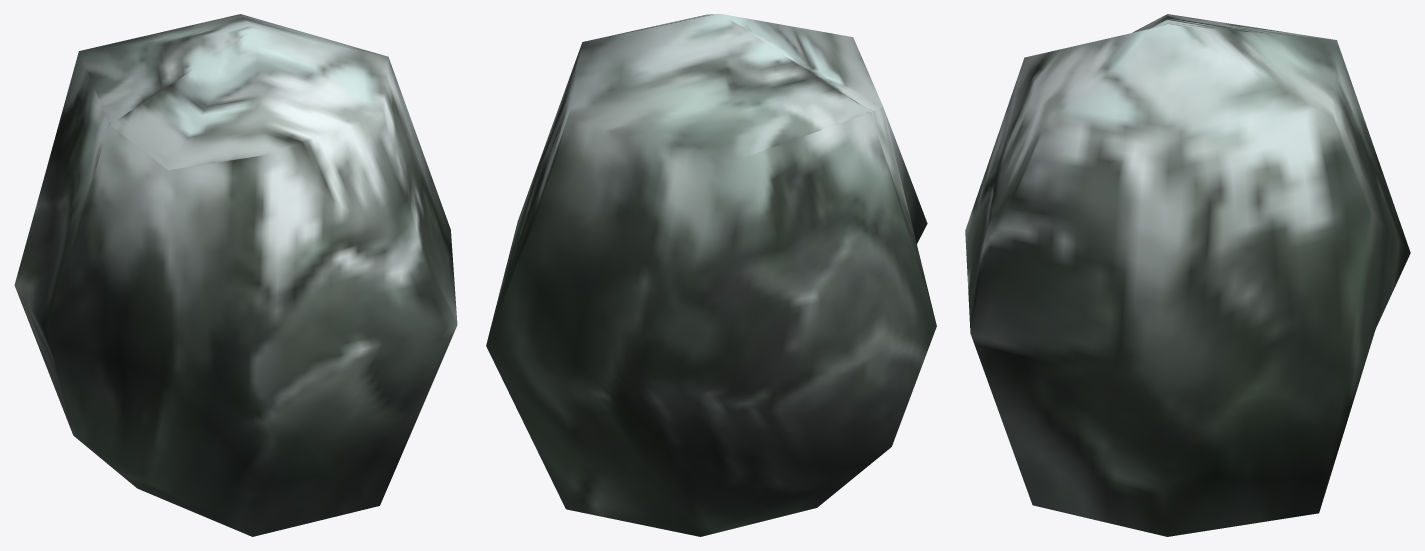
File: shitou.FBX
3 views of the same model, side by side, from view 1: azimuth 30°, elevation 25°; view 2: azimuth 150°, elevation 25°; view 3: azimuth 270°, elevation 25° (orthographic). The views are drawn at different scales.
Parts seen in each view (by area): view 1: Toushixueyuan_wuqi; view 2: Toushixueyuan_wuqi; view 3: Toushixueyuan_wuqi.
Boxes of the visible parts, <box> form: Toushixueyuan_wuqi: <box>14,14,457,536</box>; Toushixueyuan_wuqi: <box>486,14,936,536</box>; Toushixueyuan_wuqi: <box>965,14,1410,536</box>.
Bounding box in the file's own units: 99.16 × 109 × 92.77.
